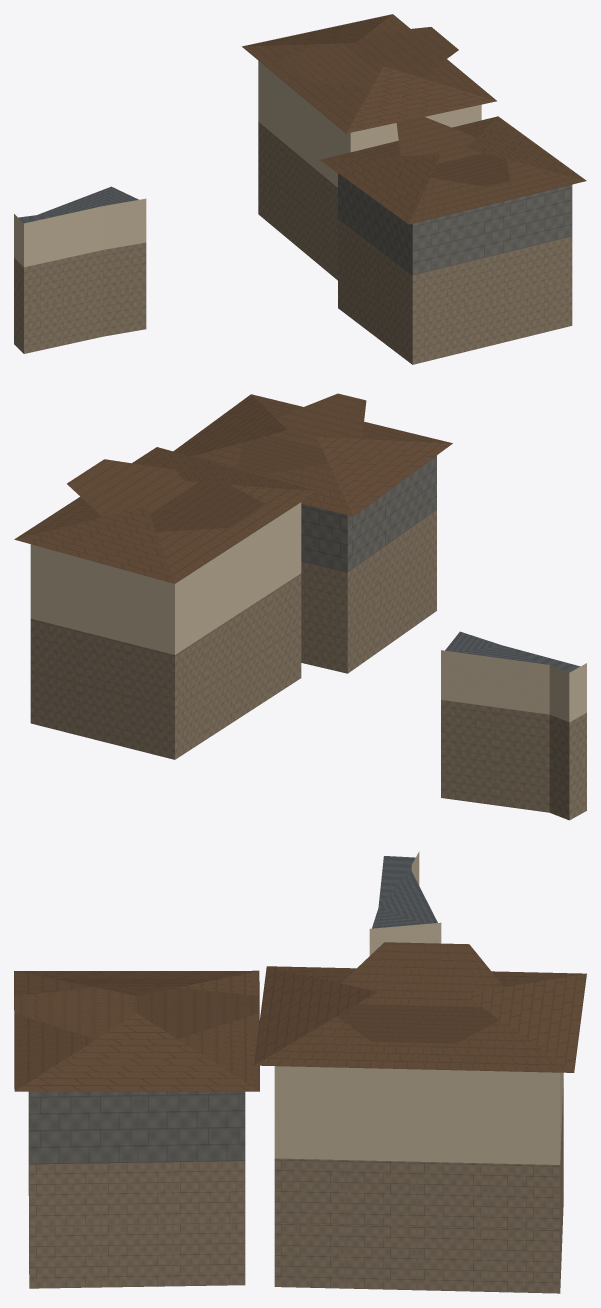
File: bld_c33_-39_444.gltf
3 renders of one model, top to bottom at view 1: azimuth 30°, elevation 25°; view 2: azimuth 150°, elevation 25°; view 3: azimuth 270°, elevation 25°, orthographic. The views are drawn at different scales.
Visible parts, largest first — view 1: bld_c33_-39_444; view 2: bld_c33_-39_444; view 3: bld_c33_-39_444.
Part boxes in pixels (box(x1,y1,x2,y2)): bld_c33_-39_444: box(14, 14, 586, 364); bld_c33_-39_444: box(14, 393, 586, 820); bld_c33_-39_444: box(14, 851, 586, 1293).
Size of the model in its own units: 23.78 by 10.5 by 19.43.
6 materials, 6 textured.
